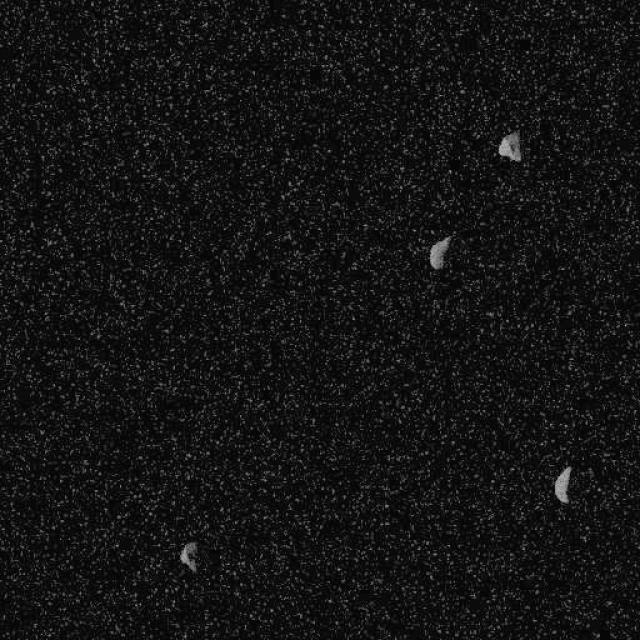D2: (428, 234, 452, 270), (497, 130, 522, 162), (552, 465, 572, 504), (179, 540, 200, 574)
